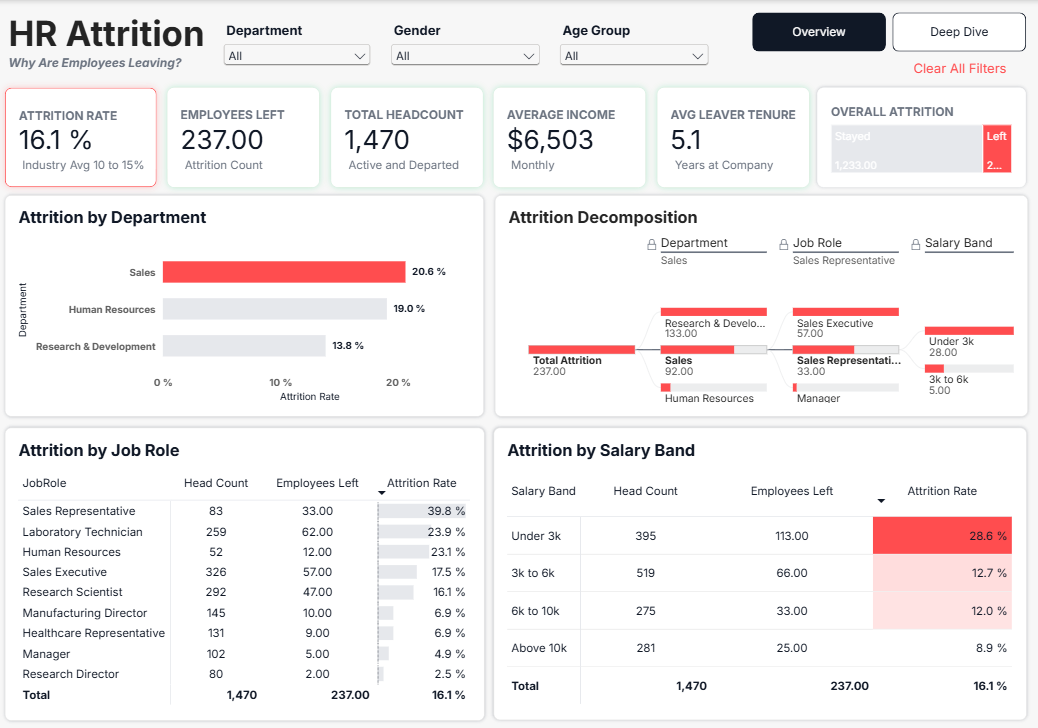

The dashboard page shown, as its layout file describes it:
{"tool":"powerbi","page":{"name":"Overview","canvas":[1280,900],"ordinal":0},"visuals":[{"type":"actionButton","title":"Clear Slicers","box":[1104,68,160,32],"z":0,"group":"g5"},{"type":"cardVisual","fields":{"Data":["hr_employees.Attrition Rate"]},"box":[0,96,208,144],"z":0,"group":"g9"},{"type":"cardVisual","fields":{"Data":["hr_employees.Employees Left"]},"box":[200,96,208,144],"z":0,"group":"g8"},{"type":"cardVisual","fields":{"Data":["hr_employees.Head Count"]},"box":[400,96,208,144],"z":0,"group":"g7"},{"type":"cardVisual","fields":{"Data":["hr_employees.Average Monthly Income"]},"box":[600,96,208,144],"z":0,"group":"g4"},{"type":"cardVisual","fields":{"Data":["hr_employees.Avg Tenure of Leavers"]},"box":[800,96,208,144],"z":0,"group":"g2"},{"type":"treemap","title":"OVERALL ATTRITION","fields":{"Values":["hr_employees.Employees Stayed","hr_employees.Employees Left"]},"box":[1008,107,256,122],"z":0,"group":"g3"},{"type":"group","id":"g1","title":"Visuals","box":[10,240,1255,645],"z":0},{"type":"pivotTable","title":"Attrition by Salary Band","fields":{"Rows":["hr_employees.Salary Band"],"Values":["hr_employees.Head Count","hr_employees.Employees Left","hr_employees.Attrition Rate"]},"box":[610,525,654,359],"z":0,"group":"g1"},{"type":"group","id":"g2","title":"Avg Leaver Tenure","box":[800,96,208,144],"z":500,"group":"g3"},{"type":"pageNavigator","title":"Page Navigator","box":[928,16,336,48],"z":1000,"group":"g5"},{"type":"group","id":"g3","title":"KPIs","box":[0,96,1264,144],"z":1000},{"type":"group","id":"g4","title":"Average Income","box":[600,96,208,144],"z":1000,"group":"g3"},{"type":"textbox","box":[32,192,160,32],"z":1000,"group":"g9"},{"type":"textbox","box":[232,192,160,32],"z":1000,"group":"g8"},{"type":"textbox","box":[432,192,160,32],"z":1000,"group":"g7"},{"type":"textbox","title":"Text box","box":[632,192,160,32],"z":1000,"group":"g4"},{"type":"textbox","box":[832,192,160,32],"z":1000,"group":"g2"},{"type":"pivotTable","title":"Attrition by Job Role","fields":{"Rows":["hr_employees.JobRole"],"Values":["hr_employees.Head Count","hr_employees.Employees Left","hr_employees.Attrition Rate"]},"box":[10,525,589,360],"z":1000,"group":"g1"},{"type":"group","id":"g5","title":"Header","box":[16,16,1248,84],"z":2000},{"type":"slicer","fields":{"Values":["hr_employees.Age Group"]},"box":[688,28.3,192,64],"z":2000,"group":"g6"},{"type":"decompositionTreeVisual","title":"Attrition Decomposition","fields":{"Analyze":["hr_employees.Employees Left"],"ExplainBy":["hr_employees.Department","hr_employees.JobRole","hr_employees.Salary Band"]},"box":[611,240,654,272],"z":2000,"group":"g1"},{"type":"group","id":"g6","title":"Slicers","box":[274.8,28,605.2,64.3],"z":2001,"group":"g5"},{"type":"slicer","fields":{"Values":["hr_employees.Gender"]},"box":[480,28.3,192,64],"z":3000,"group":"g6"},{"type":"barChart","title":"Attrition by Department","fields":{"Category":["hr_employees.Department"],"Y":["hr_employees.Attrition Rate"]},"box":[10,240,588,272],"z":3000,"group":"g1"},{"type":"group","id":"g7","title":"Total Headcount","box":[400,96,208,144],"z":3500,"group":"g3"},{"type":"group","id":"g8","title":"Employees Left","box":[200,96,208,144],"z":4000,"group":"g3"},{"type":"slicer","fields":{"Values":["hr_employees.Department"]},"box":[274.8,28,190,64],"z":4500,"group":"g6"},{"type":"textbox","title":"Subtitle","box":[16,68,224,32],"z":5000,"group":"g5"},{"type":"group","id":"g9","title":"Attrition Rate","box":[0,96,208,144],"z":5000,"group":"g3"},{"type":"textbox","title":"Title","box":[16,16,256,64],"z":6000,"group":"g5"}]}

Visuals, with their boxes in screenshot pixels (x1, y1, x2, y2), scaled from the page's 1280x900 canvas onto the 1038x728 screenshot:
"Clear Slicers" actionButton: <region>895, 55, 1025, 81</region>
cardVisual - hr_employees.Attrition Rate: <region>0, 78, 169, 194</region>
cardVisual - hr_employees.Employees Left: <region>162, 78, 331, 194</region>
cardVisual - hr_employees.Head Count: <region>324, 78, 493, 194</region>
cardVisual - hr_employees.Average Monthly Income: <region>487, 78, 655, 194</region>
cardVisual - hr_employees.Avg Tenure of Leavers: <region>649, 78, 817, 194</region>
"OVERALL ATTRITION" treemap: <region>817, 87, 1025, 185</region>
"Visuals" group: <region>8, 194, 1026, 716</region>
"Attrition by Salary Band" pivotTable: <region>495, 425, 1025, 715</region>
"Avg Leaver Tenure" group: <region>649, 78, 817, 194</region>
"Page Navigator" pageNavigator: <region>753, 13, 1025, 52</region>
"KPIs" group: <region>0, 78, 1025, 194</region>
"Average Income" group: <region>487, 78, 655, 194</region>
textbox: <region>26, 155, 156, 181</region>
textbox: <region>188, 155, 318, 181</region>
textbox: <region>350, 155, 480, 181</region>
"Text box" textbox: <region>513, 155, 642, 181</region>
textbox: <region>675, 155, 804, 181</region>
"Attrition by Job Role" pivotTable: <region>8, 425, 486, 716</region>
"Header" group: <region>13, 13, 1025, 81</region>
slicer - hr_employees.Age Group: <region>558, 23, 714, 75</region>
"Attrition Decomposition" decompositionTreeVisual: <region>495, 194, 1026, 414</region>
"Slicers" group: <region>223, 23, 714, 75</region>
slicer - hr_employees.Gender: <region>389, 23, 545, 75</region>
"Attrition by Department" barChart: <region>8, 194, 485, 414</region>
"Total Headcount" group: <region>324, 78, 493, 194</region>
"Employees Left" group: <region>162, 78, 331, 194</region>
slicer - hr_employees.Department: <region>223, 23, 377, 74</region>
"Subtitle" textbox: <region>13, 55, 195, 81</region>
"Attrition Rate" group: <region>0, 78, 169, 194</region>
"Title" textbox: <region>13, 13, 221, 65</region>
